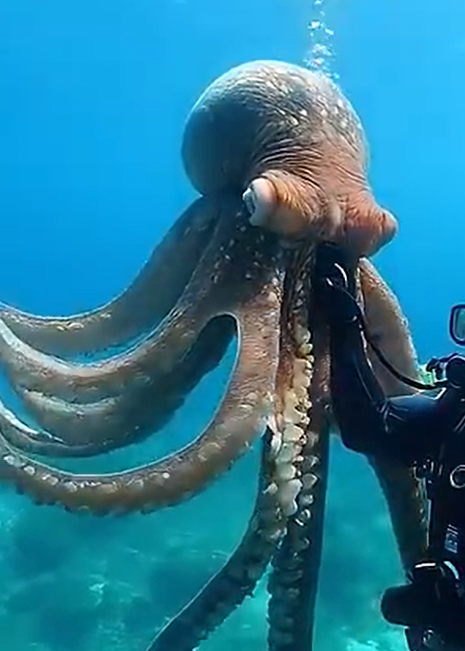octopus: (2, 62, 452, 651)
